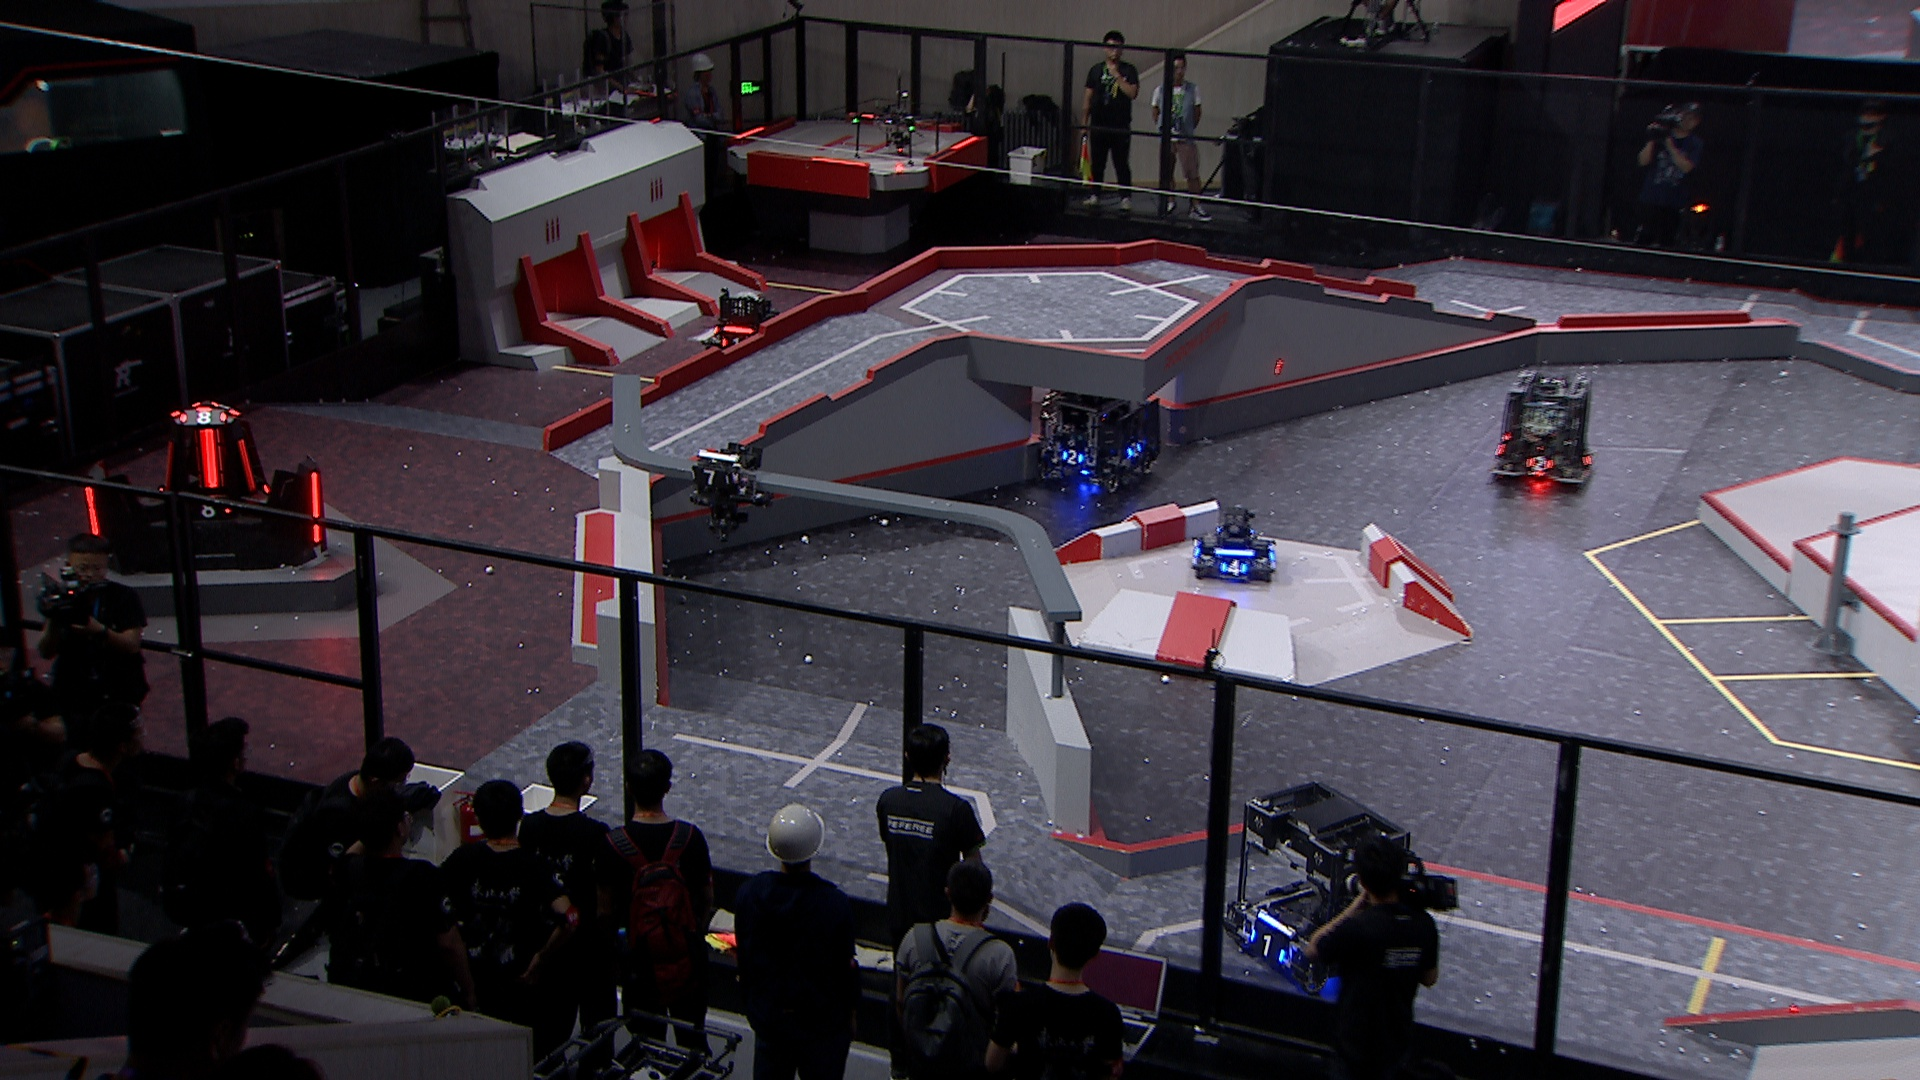armor: (306, 469, 328, 547), (196, 427, 223, 491), (233, 436, 258, 493), (82, 481, 105, 541), (1247, 930, 1287, 964), (177, 409, 229, 427), (160, 436, 175, 493), (688, 465, 731, 487), (1058, 446, 1087, 469), (193, 501, 229, 520), (1524, 454, 1556, 473), (1218, 559, 1250, 578), (717, 334, 742, 351), (1122, 442, 1143, 462)
base: (78, 404, 330, 575)
car: (1225, 779, 1415, 993), (1036, 381, 1163, 496), (1490, 368, 1594, 488), (1185, 505, 1278, 584), (703, 287, 793, 365)
watcher: (684, 440, 769, 534)
